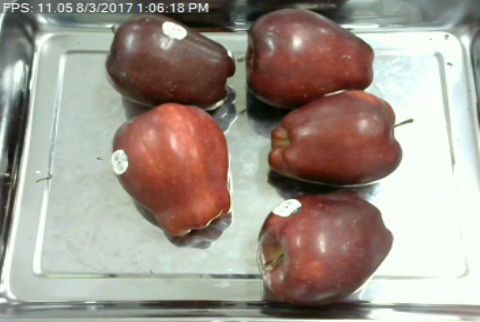Apple: (108, 99, 238, 242), (253, 188, 396, 311), (266, 87, 414, 189), (241, 4, 380, 109), (102, 10, 237, 114)
